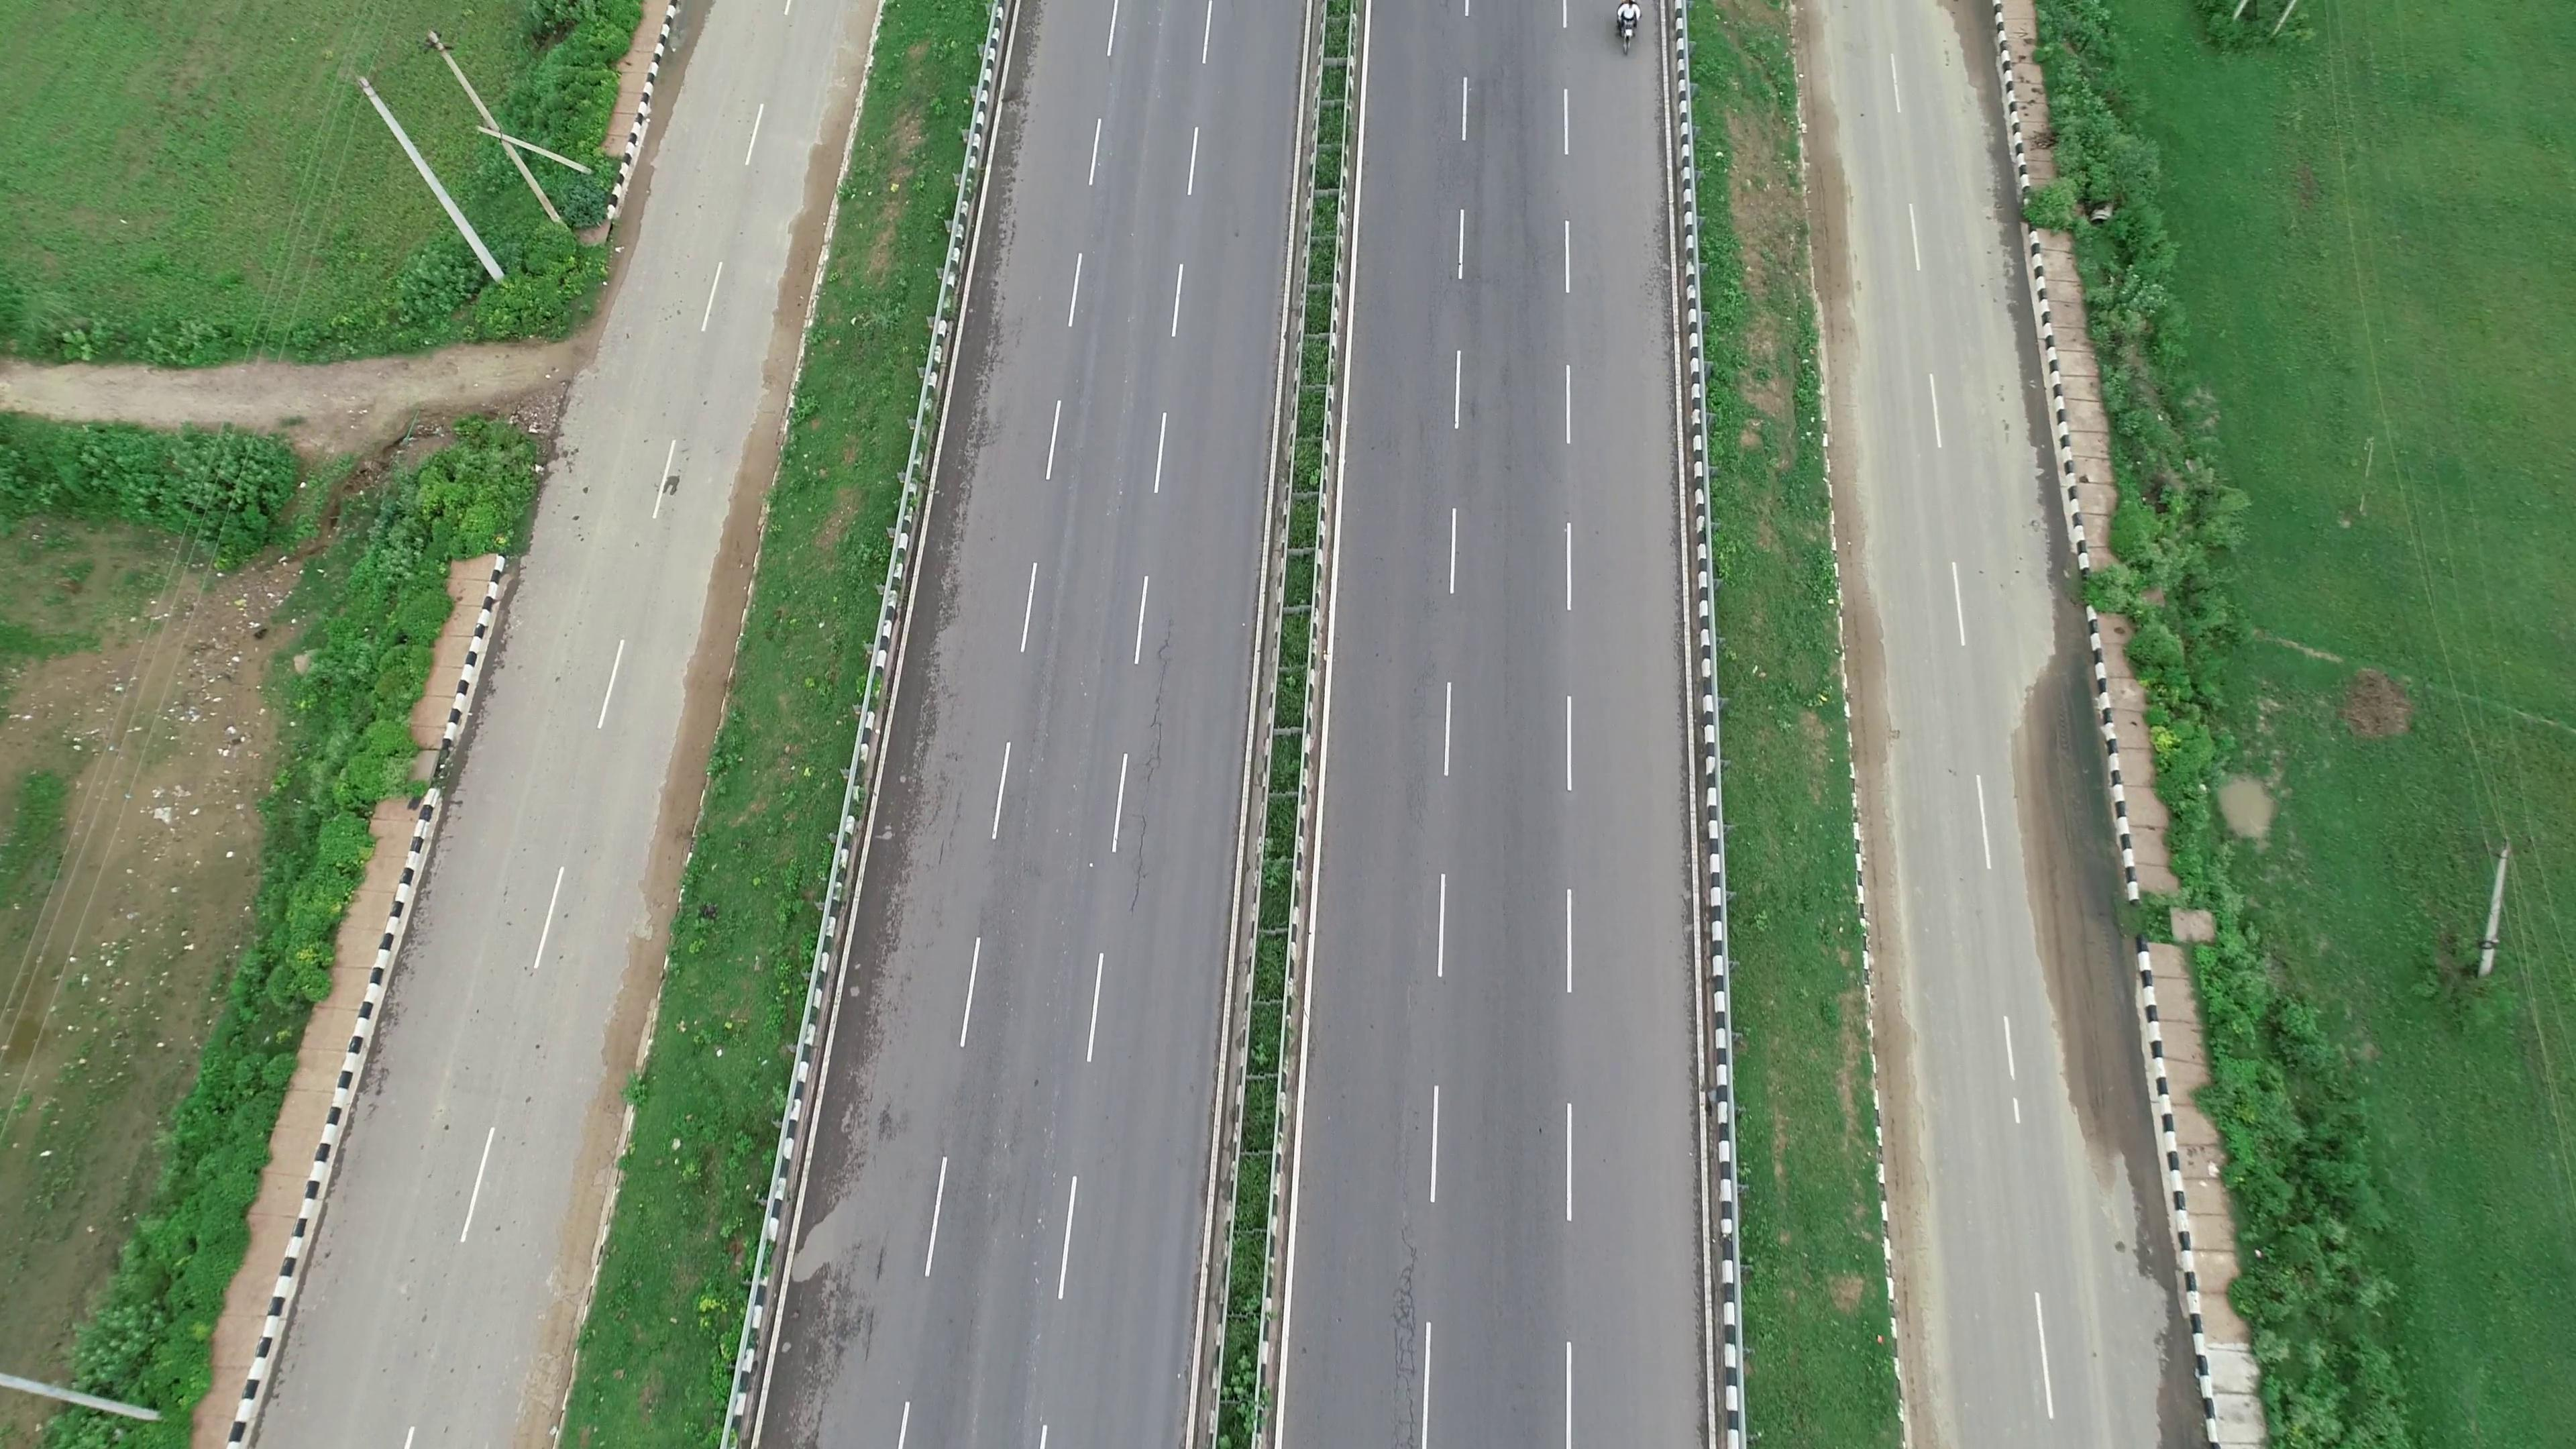Longitudinal_cracks: (1108, 621, 1191, 924), (1384, 1210, 1430, 1440)
